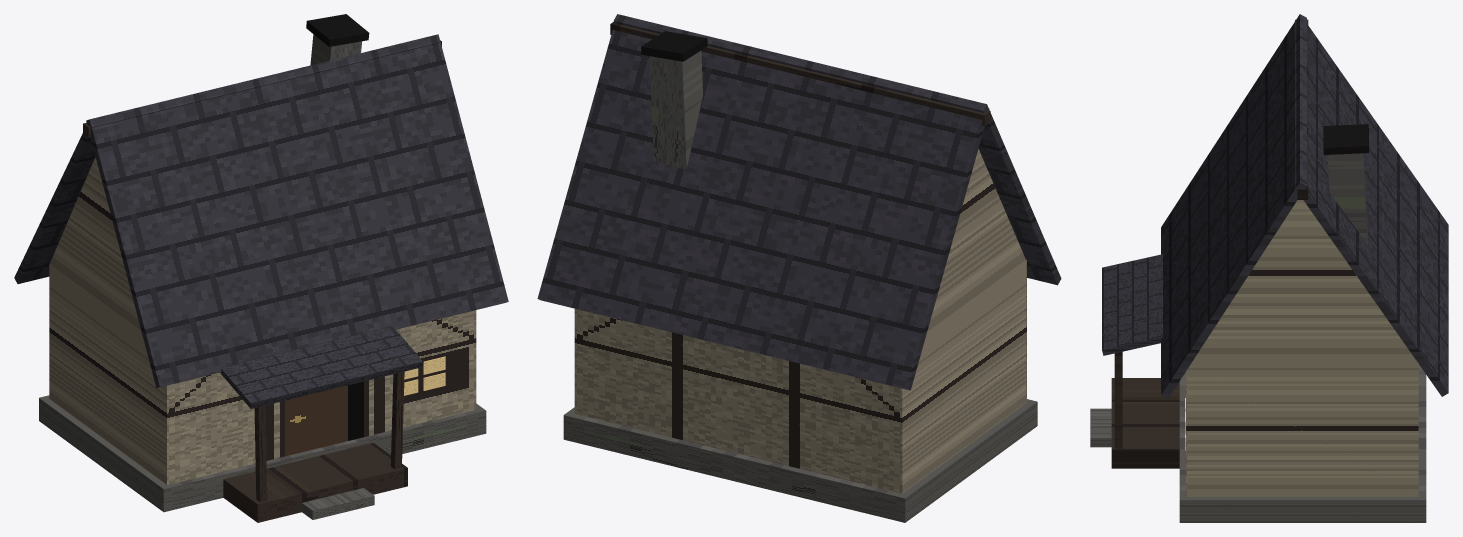
File: farmhouse.glb
The picture shows the model from 3 angles, left to right: view 1: azimuth 30°, elevation 25°; view 2: azimuth 150°, elevation 25°; view 3: azimuth 270°, elevation 25°; orthographic projection. The views are drawn at different scales.
Visible parts, largest first — view 1: farmhouse, front, porch, glow-window; view 2: farmhouse; view 3: farmhouse, porch.
Part boxes in pixels (<box>): farmhouse: <box>14,14,508,512</box>; front: <box>166,310,476,484</box>; porch: <box>220,326,423,522</box>; glow-window: <box>404,356,445,395</box>; farmhouse: <box>537,14,1061,522</box>; farmhouse: <box>1161,14,1448,522</box>; porch: <box>1090,254,1179,468</box>.
Bounding box in the file's own units: 8 × 7.86 × 7.12.
1 material, 1 textured.
